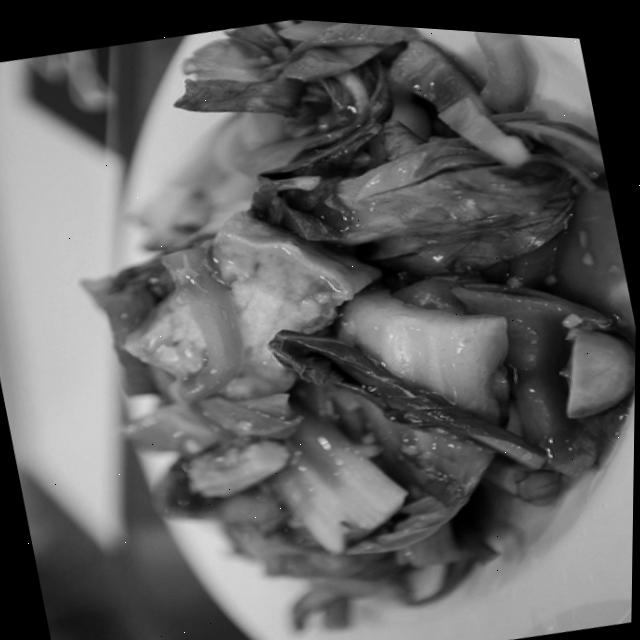蔬菜料理: (21, 1, 640, 640)
